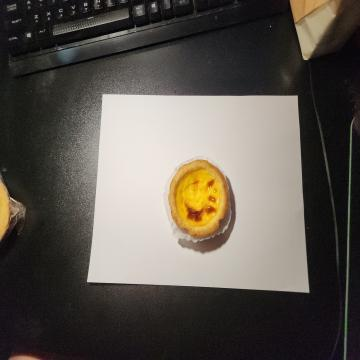EggTart: (168, 157, 230, 241)
